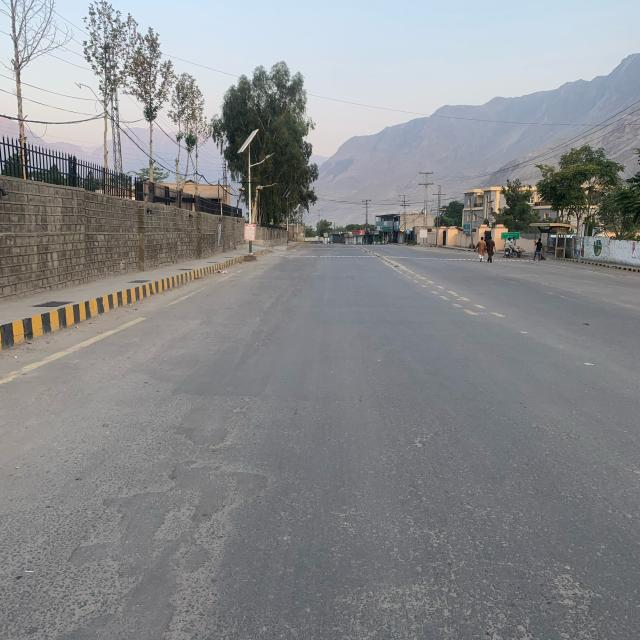straight: (300, 236, 501, 534)
